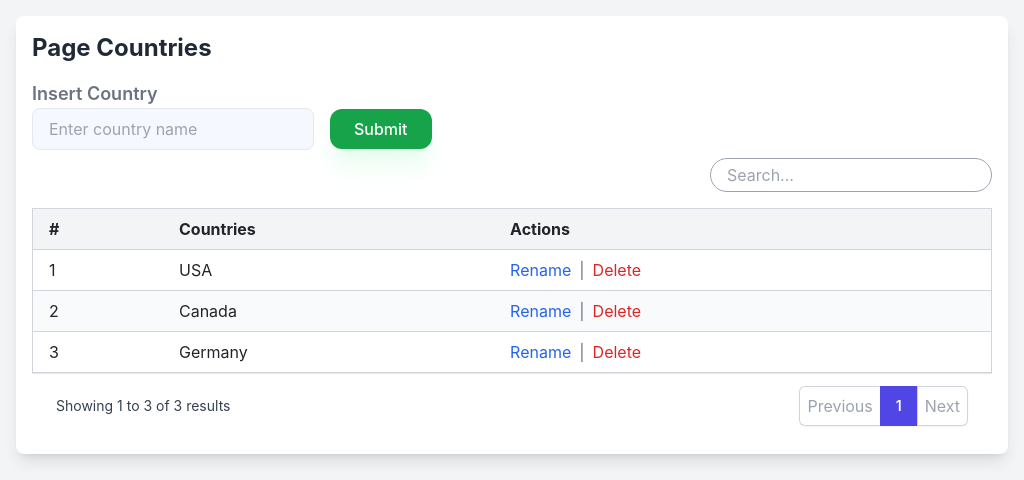
Test: Countries Component › filters countries based on search input
This screenshot has width=1024, height=480.
Expected: the text "USA" is shown, [163,250,494,290]
# Simulate search
In the field with placeholder "Search...": (851, 175) [710,158,992,192], type "Canada"
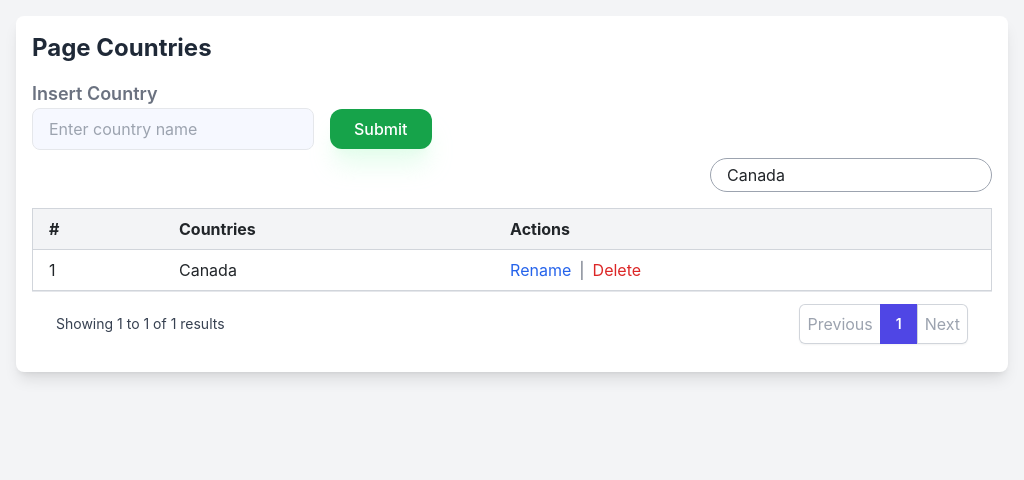
Expected: the text "Canada" is shown, [163,250,494,290]
Result: the text "USA" is gone
